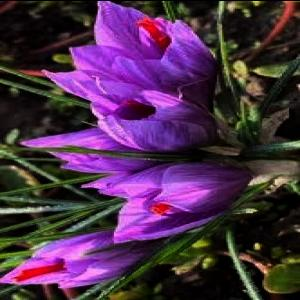Saffron: (78, 8, 234, 94), (110, 156, 255, 244), (5, 221, 164, 286), (95, 91, 230, 150)
